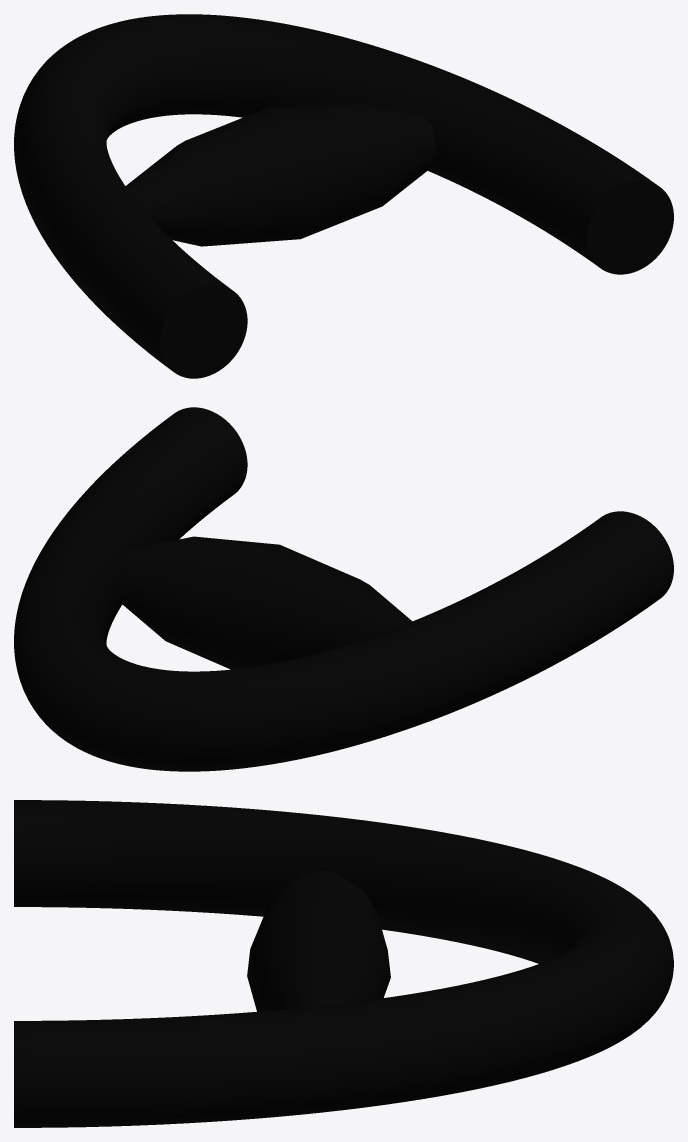
The model's file is letterA3DColoured.glb.
3 renders of one model, top to bottom at view 1: azimuth 30°, elevation 25°; view 2: azimuth 150°, elevation 25°; view 3: azimuth 270°, elevation 25°, orthographic. The views are drawn at different scales.
Parts seen in each view (by area): view 1: mesh_id41, mesh_id47, mesh_id53; view 2: mesh_id47, mesh_id41, mesh_id53; view 3: mesh_id41, mesh_id47, mesh_id53.
Boxes of the visible parts, left/top/right/bottom form: mesh_id41: left=122, top=14, right=673, bottom=274; mesh_id47: left=14, top=21, right=247, bottom=378; mesh_id53: left=125, top=101, right=436, bottom=246; mesh_id47: left=106, top=511, right=673, bottom=771; mesh_id41: left=14, top=407, right=247, bottom=763; mesh_id53: left=122, top=536, right=412, bottom=669; mesh_id41: left=14, top=915, right=673, bottom=1127; mesh_id47: left=14, top=800, right=673, bottom=963; mesh_id53: left=247, top=870, right=390, bottom=1011.
Size of the model in its own units: 3.79 by 0.8625 by 3.98.
Materials: 3 (3 with a texture image).
